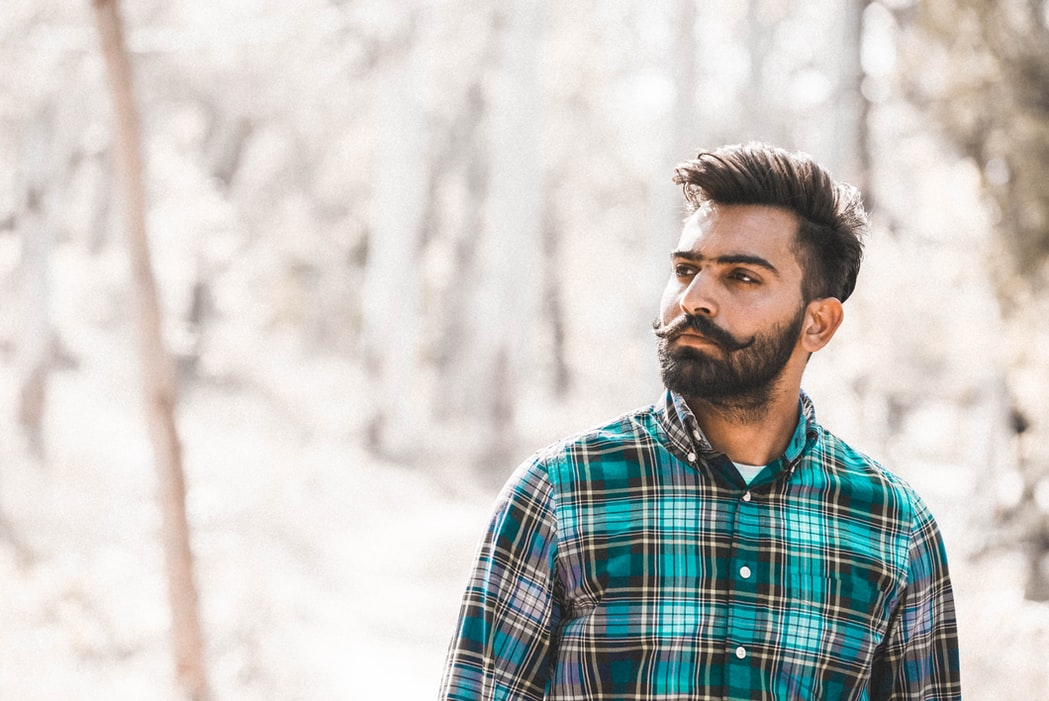beard: (653, 316, 795, 399)
squared: (443, 413, 966, 686)
